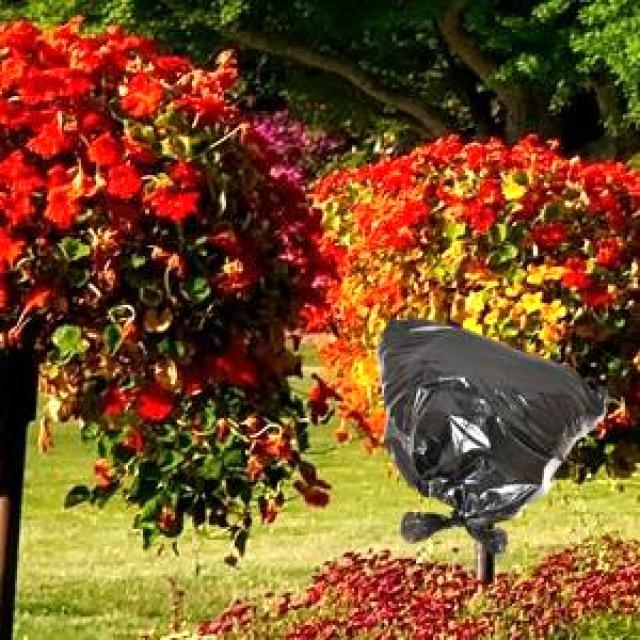Garbage_Bag: (374, 316, 604, 554)
